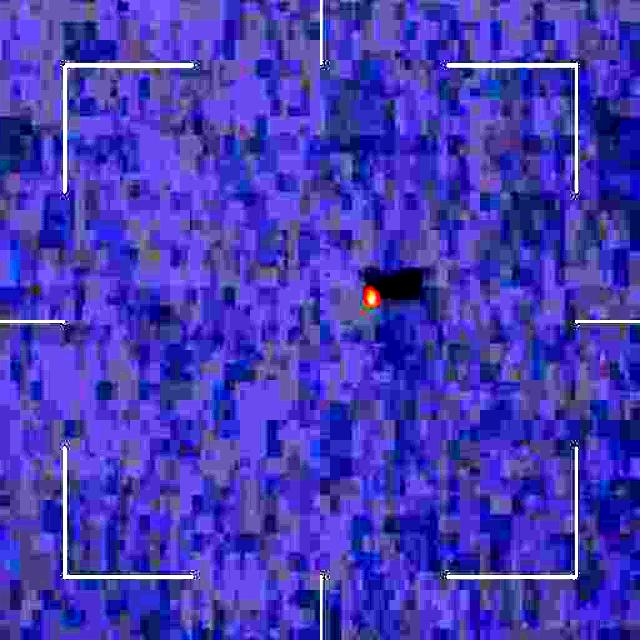bird: (360, 281, 379, 312)
